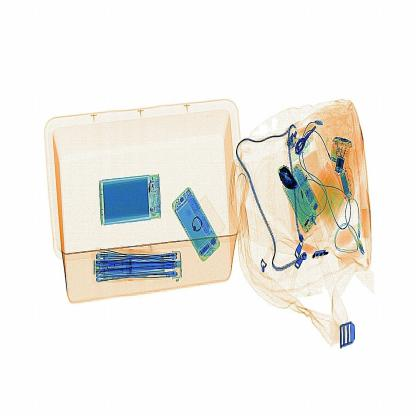scissors: (262, 162, 306, 207)
